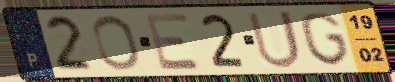2: (44, 13, 97, 74), (200, 12, 247, 69)
E: (142, 11, 204, 72)
G: (298, 10, 353, 68)
O: (89, 13, 144, 72)
U: (244, 9, 304, 71)
